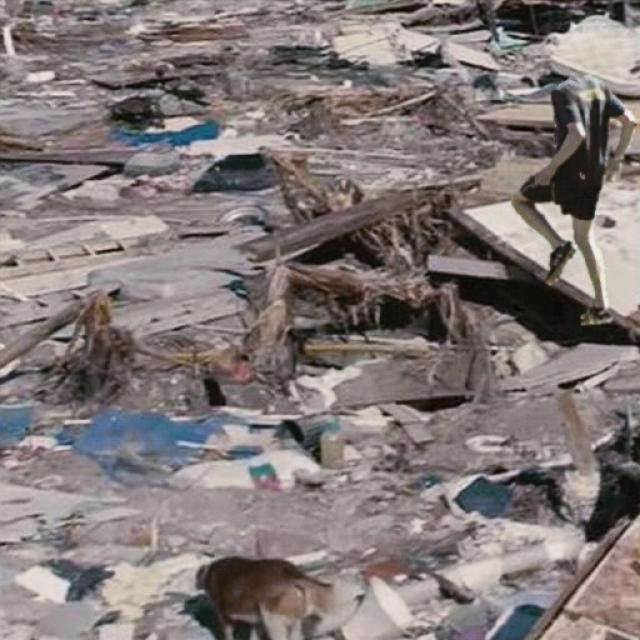Person in Rubble: (511, 75, 635, 324)
